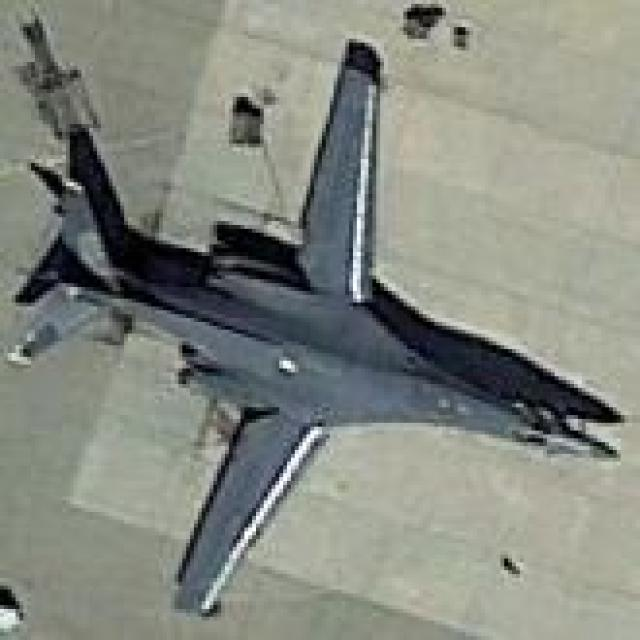B-1_TopDown: (0, 7, 624, 616)
